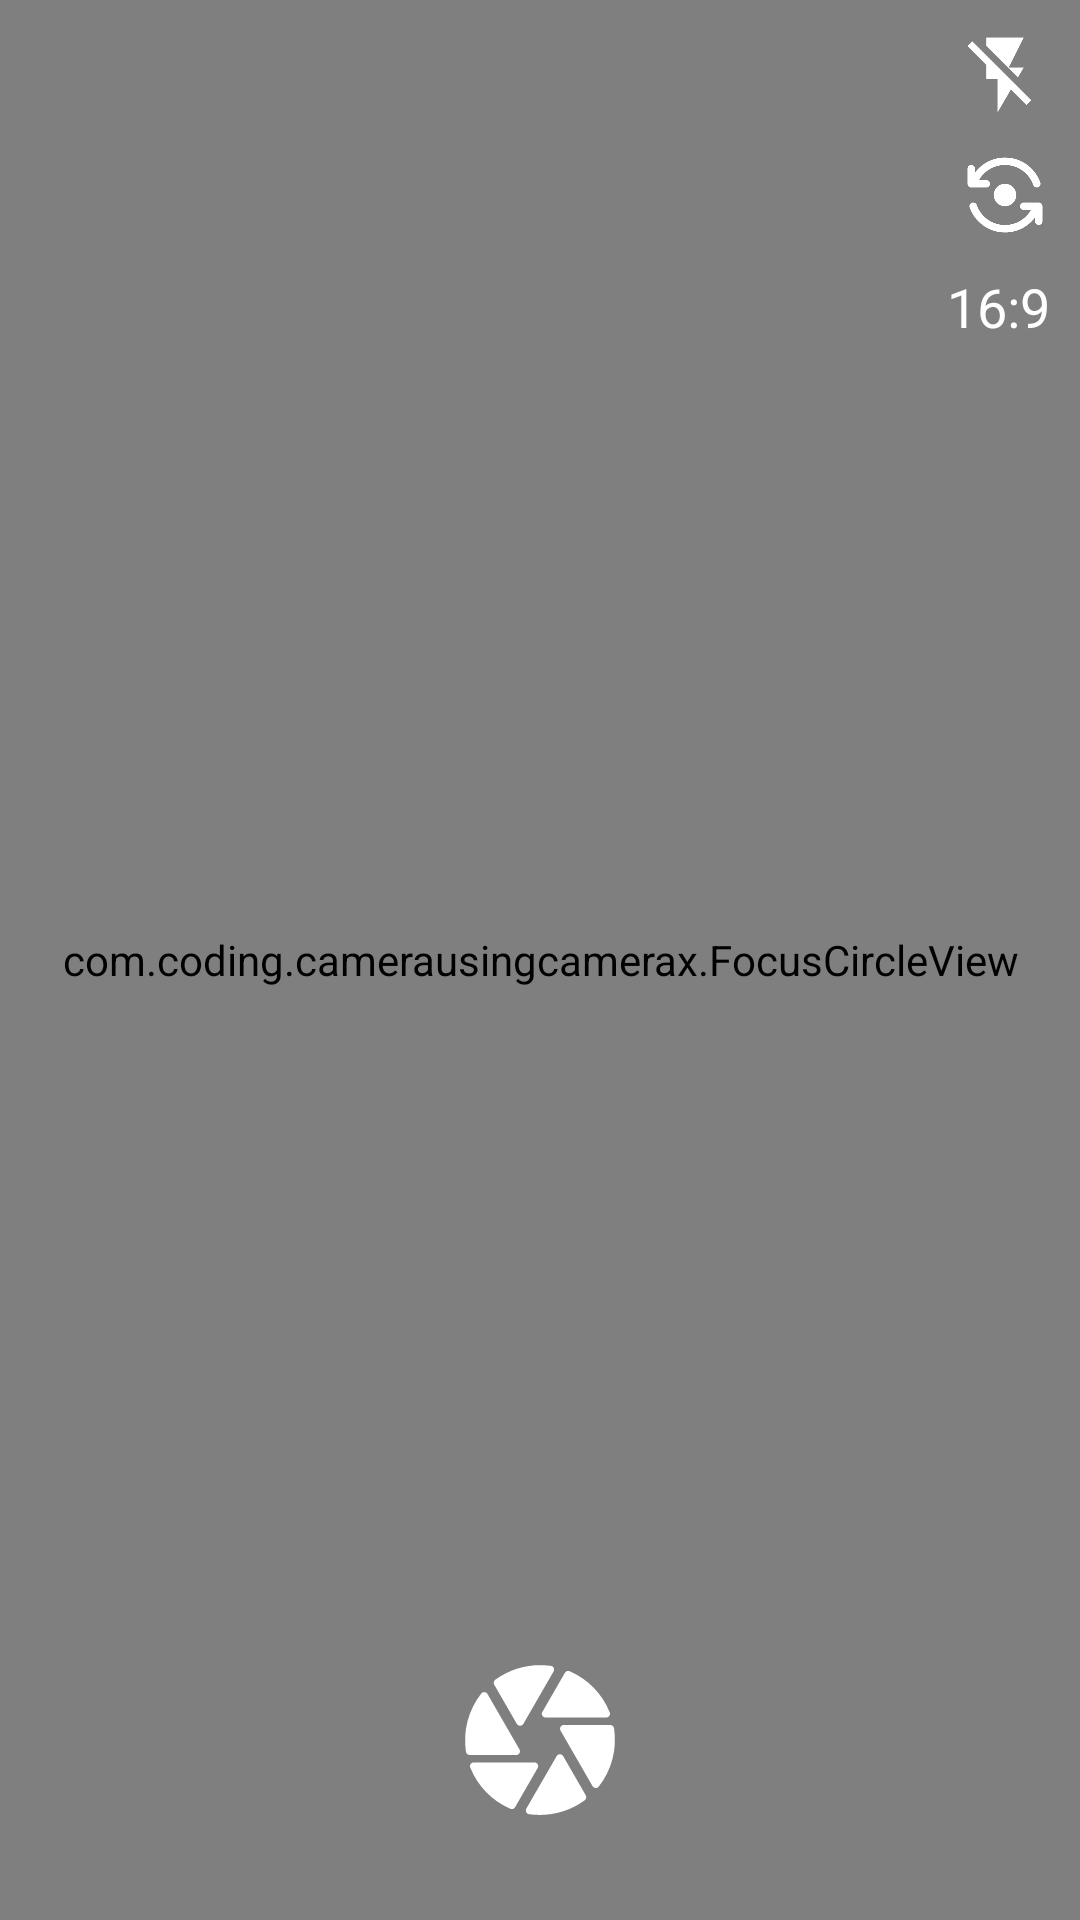

Icon click points for this 1080px x 1920px phone screenshot, format (x=x, y=y):
flash off: (x=999, y=74)
flip camera: (x=1005, y=195)
